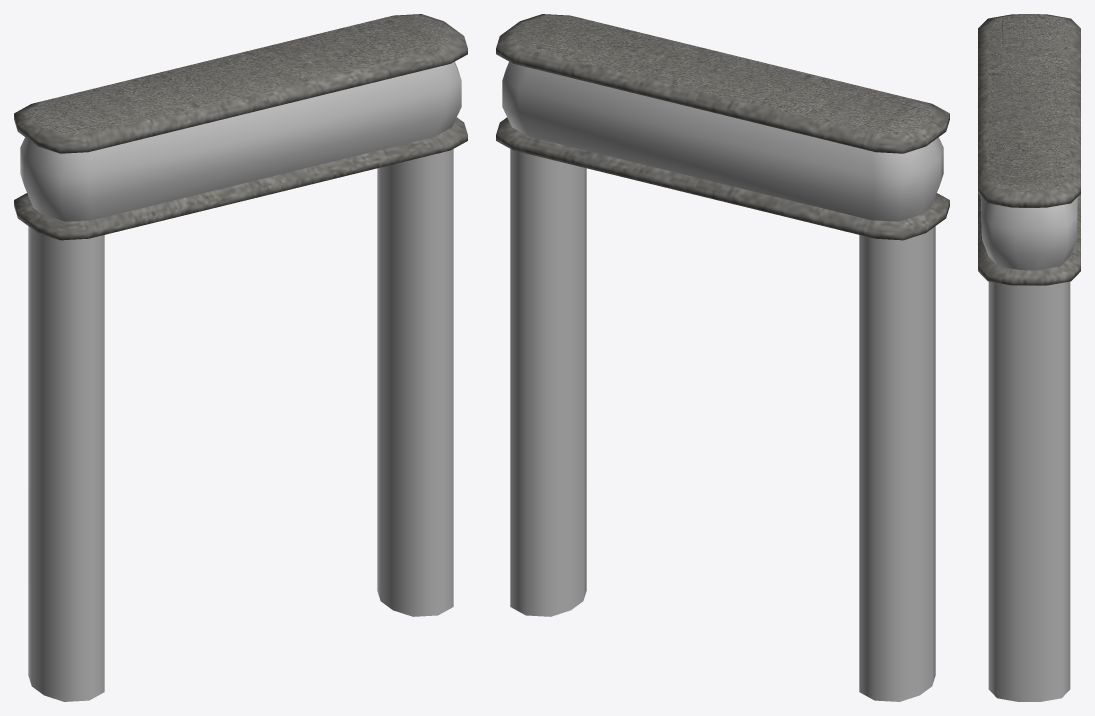
File: DoorOBJFrame.obj
The picture shows the model from 3 angles, left to right: view 1: azimuth 30°, elevation 25°; view 2: azimuth 150°, elevation 25°; view 3: azimuth 270°, elevation 25°; orthographic projection. The views are drawn at different scales.
Visible parts, largest first — view 1: Door1; view 2: Door1; view 3: Door1.
Part boxes in pixels (box(x1,y1,x2,y2)): Door1: box(14, 14, 467, 701); Door1: box(496, 14, 949, 701); Door1: box(978, 14, 1080, 701).
Size of the model in its own units: 2.1 by 2.67 by 0.4876.
